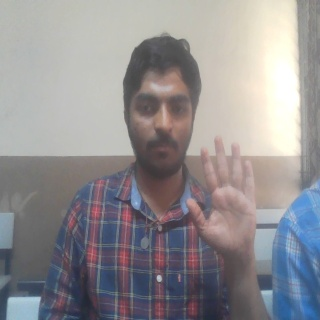Face: (120, 32, 202, 182)
Hello: (185, 132, 261, 262)
